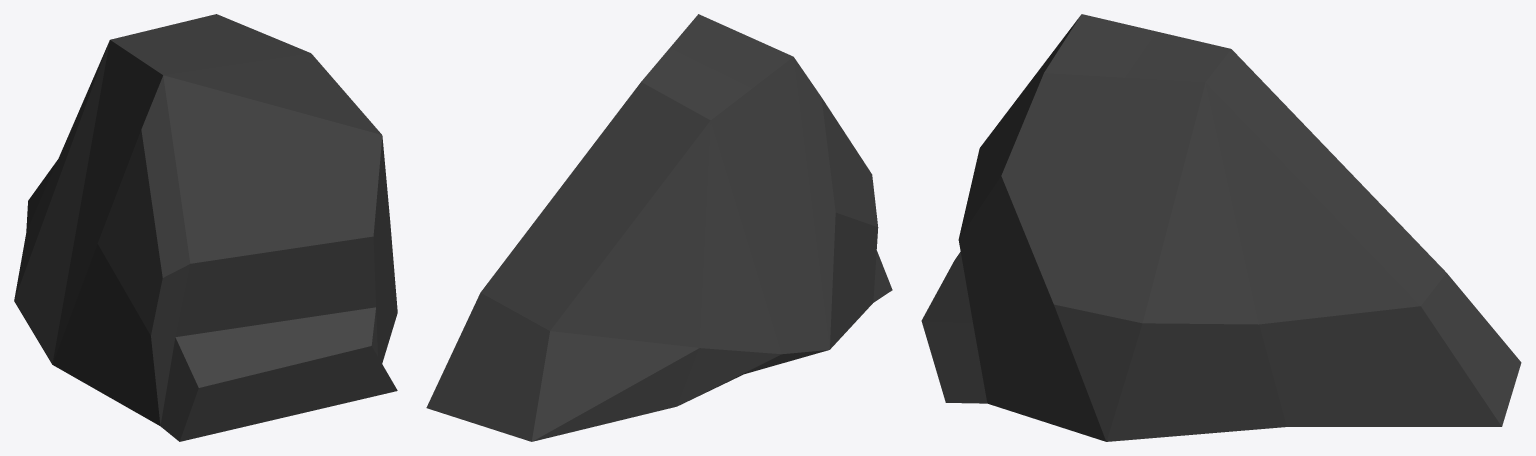
File: Forest_Rock.fbx
3 views of the same model, side by side, from view 1: azimuth 30°, elevation 25°; view 2: azimuth 150°, elevation 25°; view 3: azimuth 270°, elevation 25° (orthographic). The views are drawn at different scales.
Parts seen in each view (by area): view 1: Rock_v07; view 2: Rock_v07; view 3: Rock_v07.
Boxes of the visible parts, box(x1,y1,x2,y2) form: Rock_v07: box(14, 14, 397, 441); Rock_v07: box(426, 14, 892, 441); Rock_v07: box(921, 14, 1521, 441).
Bounding box in the file's own units: 2.36 × 2.31 × 3.79.
